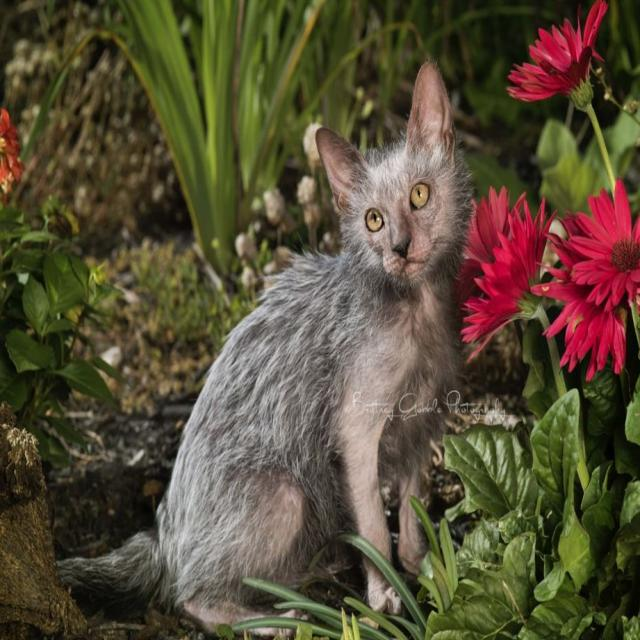Lykoi: (51, 55, 478, 630)
